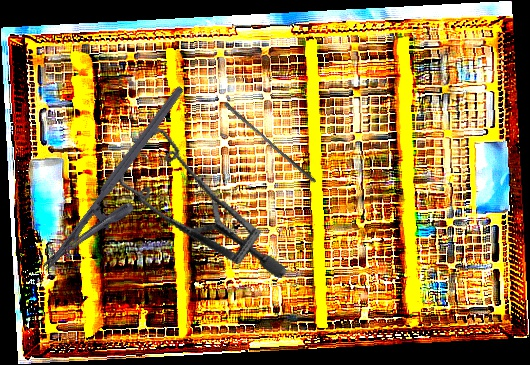Needle Holder: (39, 84, 211, 292)
Pusher: (220, 101, 320, 184)
Speculum: (96, 96, 288, 320)
